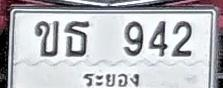2: (171, 20, 192, 56)
4: (148, 20, 168, 56)
9: (124, 20, 143, 56)
A02: (34, 20, 59, 56)
A24: (64, 20, 90, 56)
RYG: (80, 68, 144, 88)
